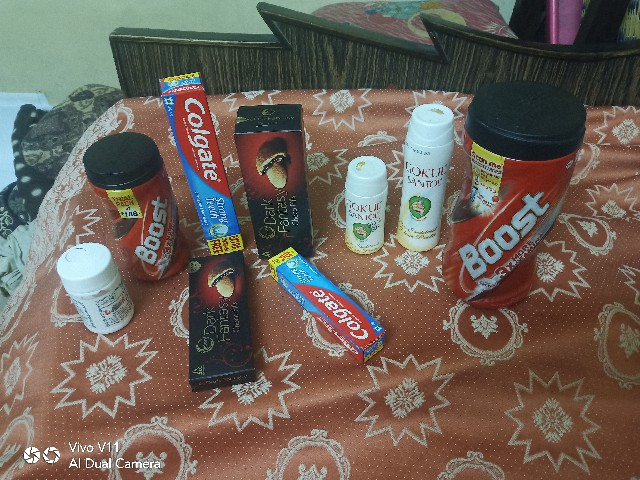boost big: (444, 75, 605, 305)
boost small: (72, 129, 184, 283)
colgatetoothpaste big: (158, 48, 242, 252)
colgatetoothpaste small: (261, 232, 395, 375)
darkfantasy big: (234, 95, 318, 258)
darkfantasy small: (183, 249, 252, 393)
gokulsantol big: (391, 86, 454, 255)
gokulsantol small: (339, 153, 391, 257)
lgasafoetidapowder small: (55, 229, 131, 352)
